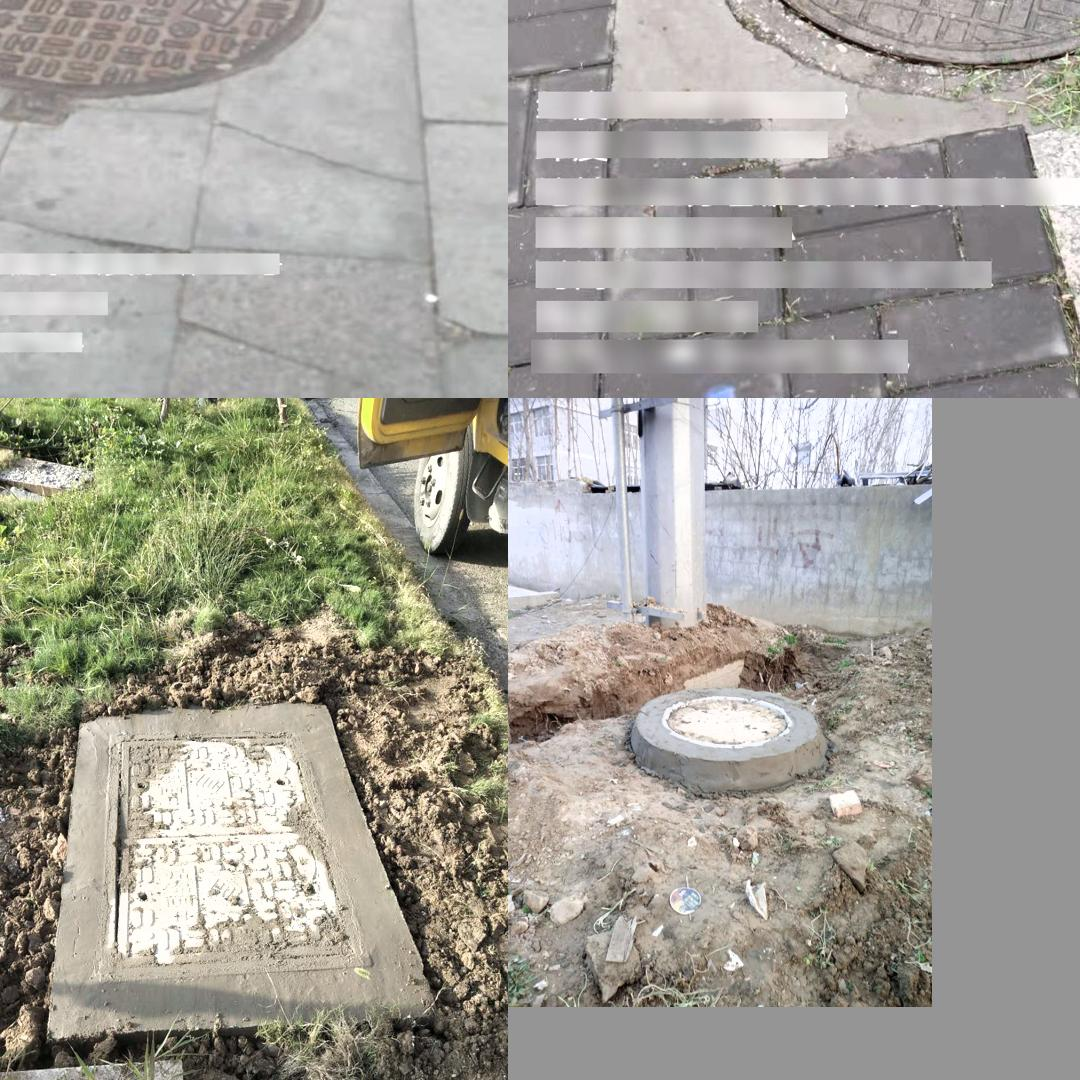good: (100, 734, 372, 980), (0, 0, 326, 128), (687, 0, 1080, 97), (662, 694, 793, 747), (0, 1058, 206, 1080)
